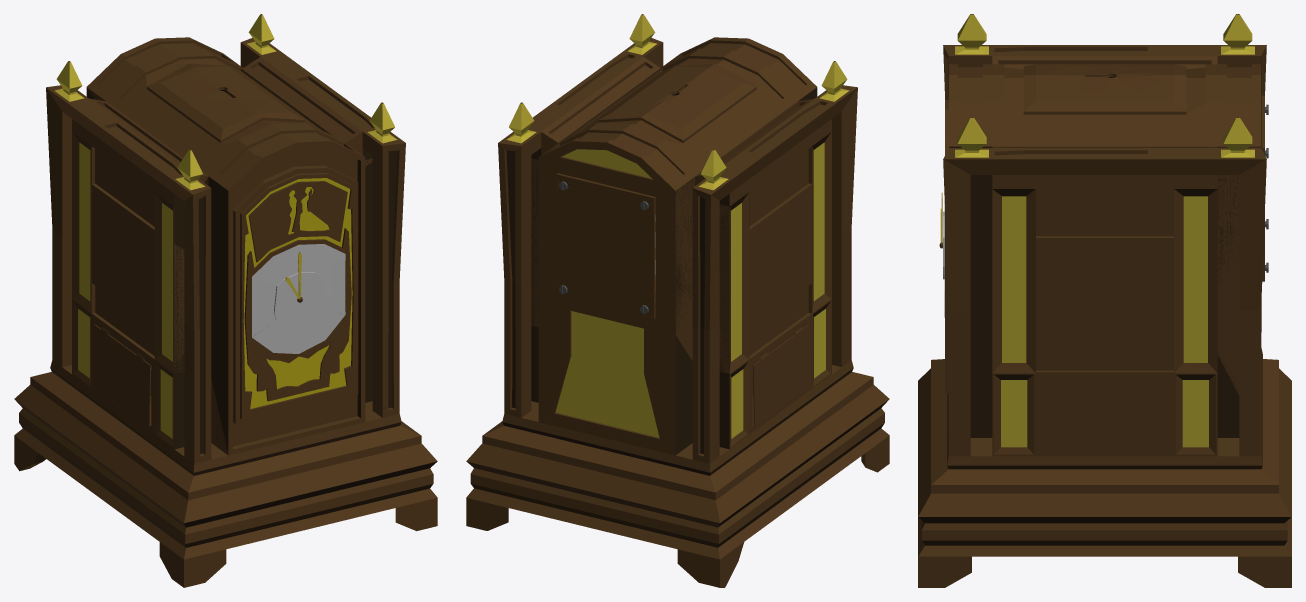
Rendered from clock.fbx.
3 views of the same model, side by side, from view 1: azimuth 30°, elevation 25°; view 2: azimuth 150°, elevation 25°; view 3: azimuth 270°, elevation 25° (orthographic). The views are drawn at different scales.
Parts seen in each view (by area): view 1: BASE, dial, hatch_key, hatch_side; view 2: BASE, hatch_back, hatch_key, hatch_side; view 3: BASE, hatch_key, dial.
Boxes of the visible parts, x1,y1,x2,y2 form: BASE: [14, 14, 437, 587]; dial: [240, 173, 355, 419]; hatch_key: [161, 66, 290, 128]; hatch_side: [93, 324, 151, 426]; BASE: [466, 14, 889, 587]; hatch_back: [556, 173, 655, 319]; hatch_key: [613, 66, 742, 128]; hatch_side: [752, 324, 810, 426]; BASE: [918, 14, 1291, 587]; hatch_key: [1036, 64, 1173, 101]; dial: [939, 100, 948, 393].
Size of the model in its own units: 247 by 387 by 286.
